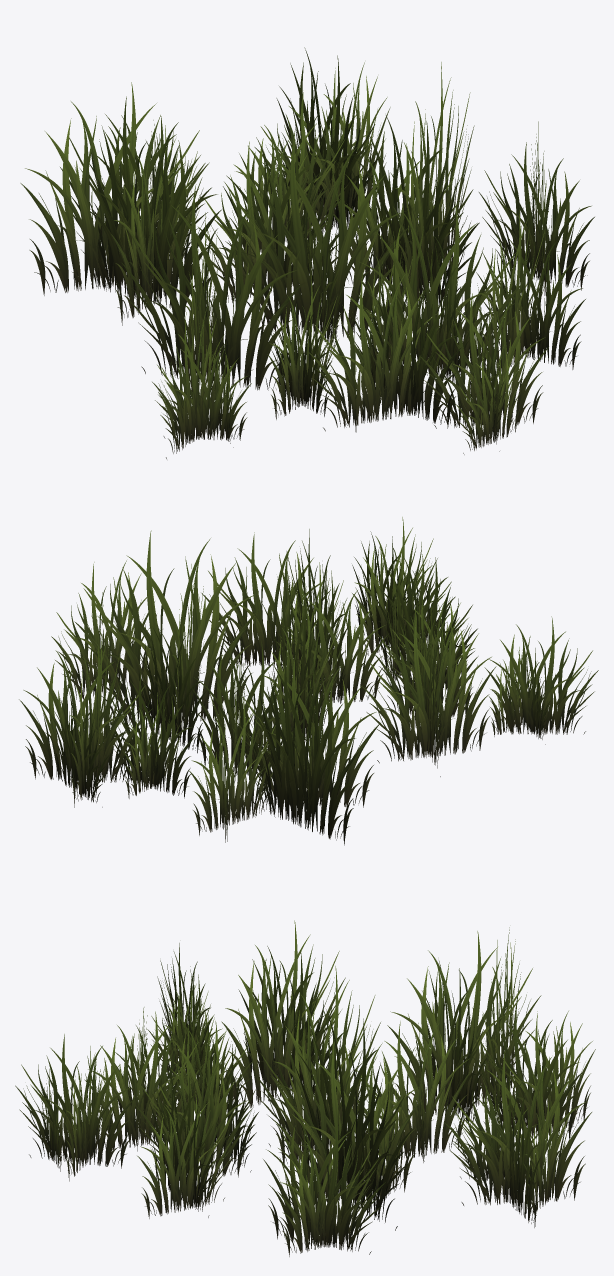
File: Grass_05.fbx
3 renders of one model, top to bottom at view 1: azimuth 30°, elevation 25°; view 2: azimuth 150°, elevation 25°; view 3: azimuth 270°, elevation 25°, orthographic. The views are drawn at different scales.
Parts seen in each view (by area): view 1: Grass_05; view 2: Grass_05; view 3: Grass_05.
Part boxes in pixels (box(x1,y1,x2,y2)): Grass_05: box(20, 47, 594, 458); Grass_05: box(19, 517, 598, 845); Grass_05: box(15, 920, 595, 1256).
Bounding box in the file's own units: 3.22 × 3.65 × 1.4.
